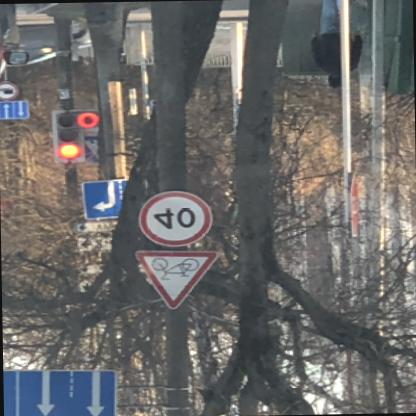speedlimit: (136, 190, 208, 246)
trafficlight: (52, 113, 95, 162)
